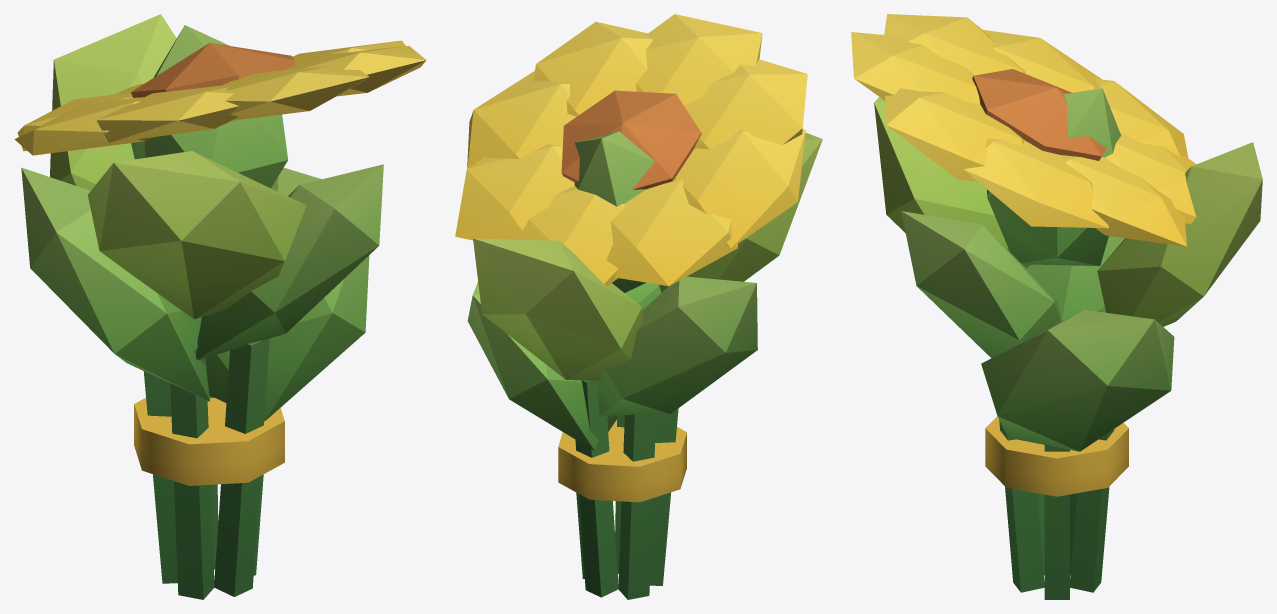
Rendered from item_herb_sunleaf.glb.
3 views of the same model, side by side, from view 1: azimuth 30°, elevation 25°; view 2: azimuth 150°, elevation 25°; view 3: azimuth 270°, elevation 25° (orthographic). The views are drawn at different scales.
Parts seen in each view (by area): view 1: item_herb_sunleaf; view 2: item_herb_sunleaf; view 3: item_herb_sunleaf.
Boxes of the visible parts, x1,y1,x2,y2 form: item_herb_sunleaf: (14, 14, 426, 599); item_herb_sunleaf: (455, 14, 822, 599); item_herb_sunleaf: (851, 14, 1262, 599).
Bounding box in the file's own units: 0.9664 × 1.38 × 0.9752.
Materials: 1 (1 with a texture image).
